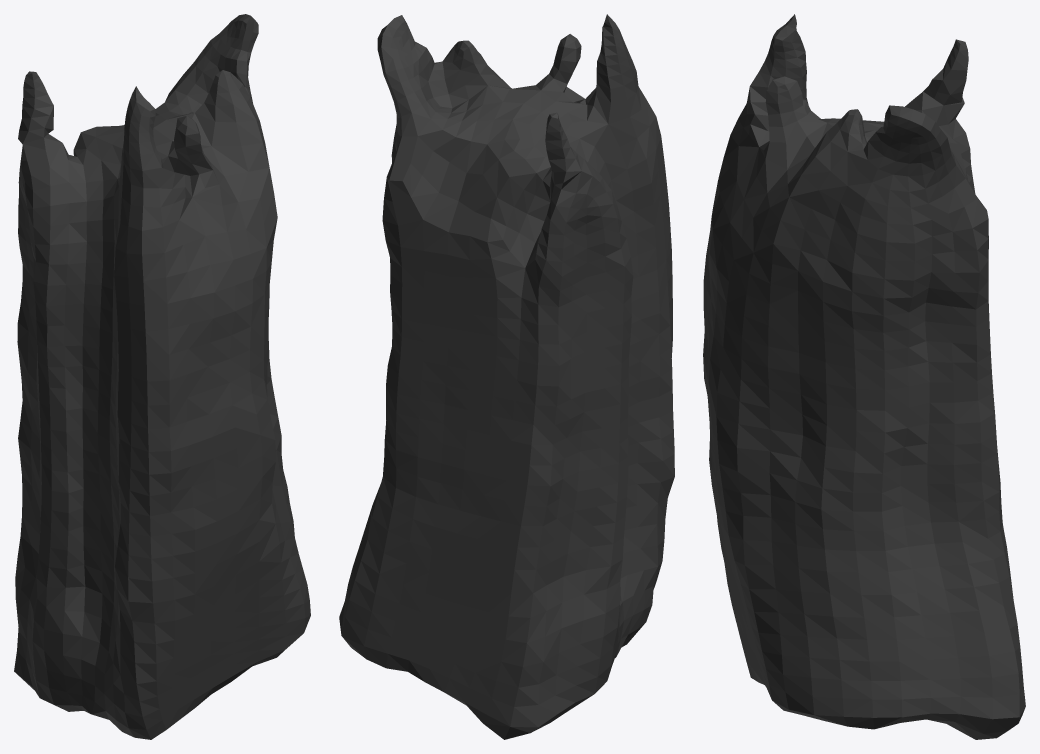
The model's file is R_max_PM4.glb.
The picture shows the model from 3 angles, left to right: view 1: azimuth 30°, elevation 25°; view 2: azimuth 150°, elevation 25°; view 3: azimuth 270°, elevation 25°; orthographic projection. The views are drawn at different scales.
Visible parts, largest first — view 1: R_max_PM4; view 2: R_max_PM4; view 3: R_max_PM4.
Part boxes in pixels (<box>): R_max_PM4: <box>14,14,310,739</box>; R_max_PM4: <box>339,14,674,739</box>; R_max_PM4: <box>703,14,1025,739</box>.
Bounding box in the file's own units: 0.4989 × 1.23 × 0.5199.
1 material, 1 textured.
